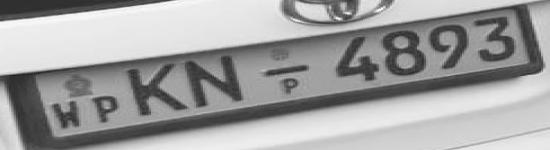-: (263, 63, 313, 77)
3: (469, 15, 520, 64)
4: (329, 33, 378, 83)
8: (378, 28, 429, 77)
9: (425, 22, 470, 72)
K: (124, 62, 187, 118)
N: (182, 53, 255, 107)
P: (91, 94, 122, 124)
W: (47, 100, 90, 131)
